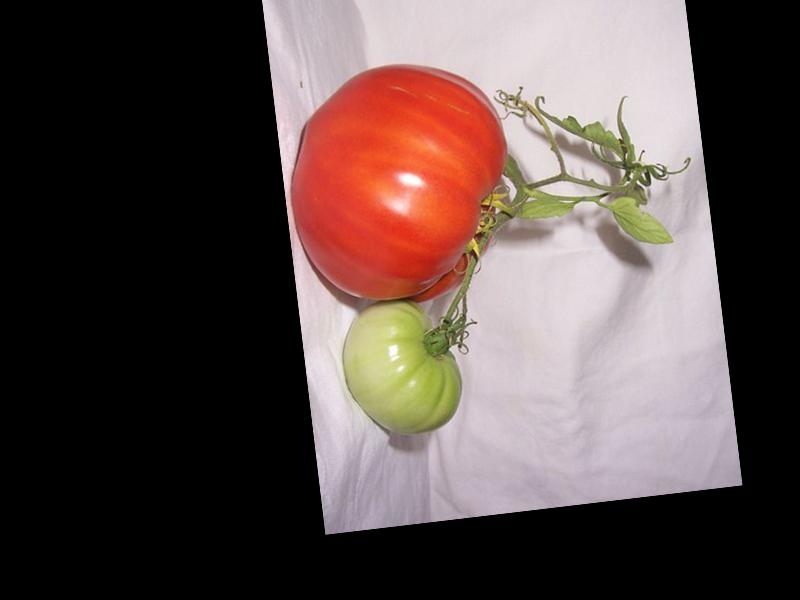Tomato: (278, 52, 523, 316)
